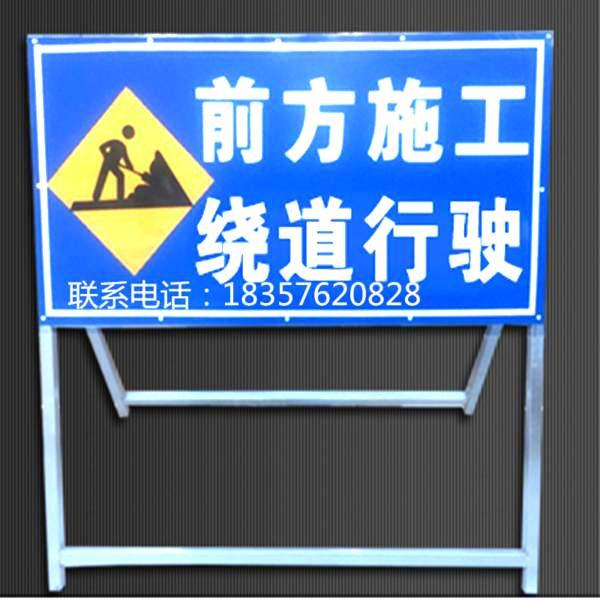sign: (30, 33, 543, 320)
